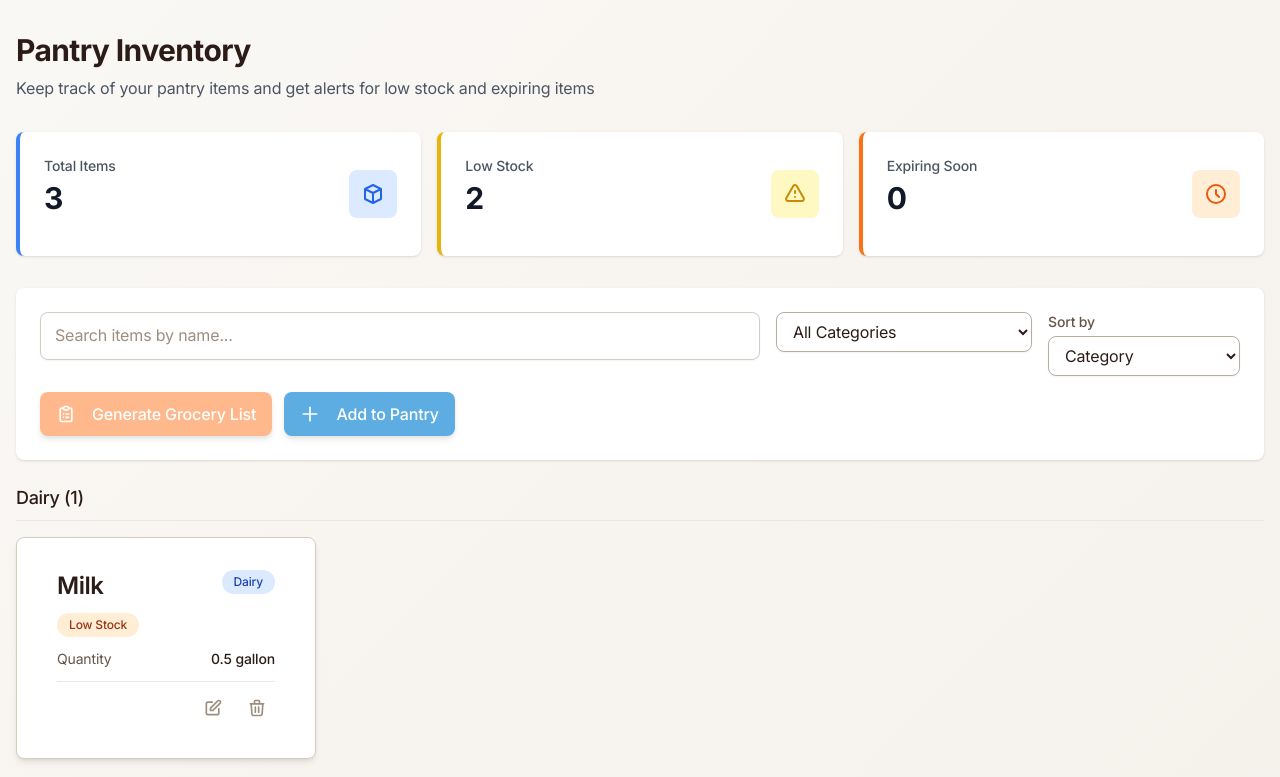
Test: PantryPage - Generate Grocery List › should close modal after successful creation
Click the button "Generate Grocery List": (156, 414) [40,392,272,436]
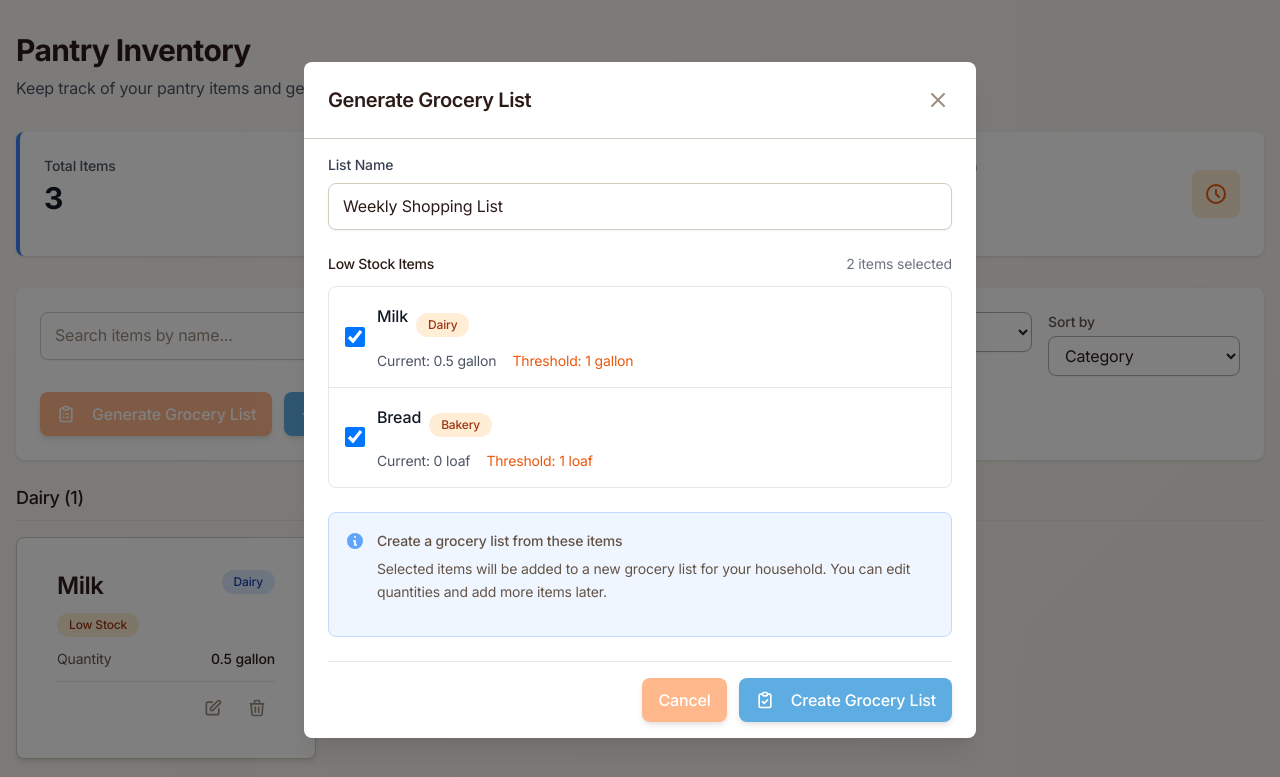
expect the button "Create Grocery List" is shown: met
Click the button "Create Grocery List": (845, 700) [739,678,952,722]
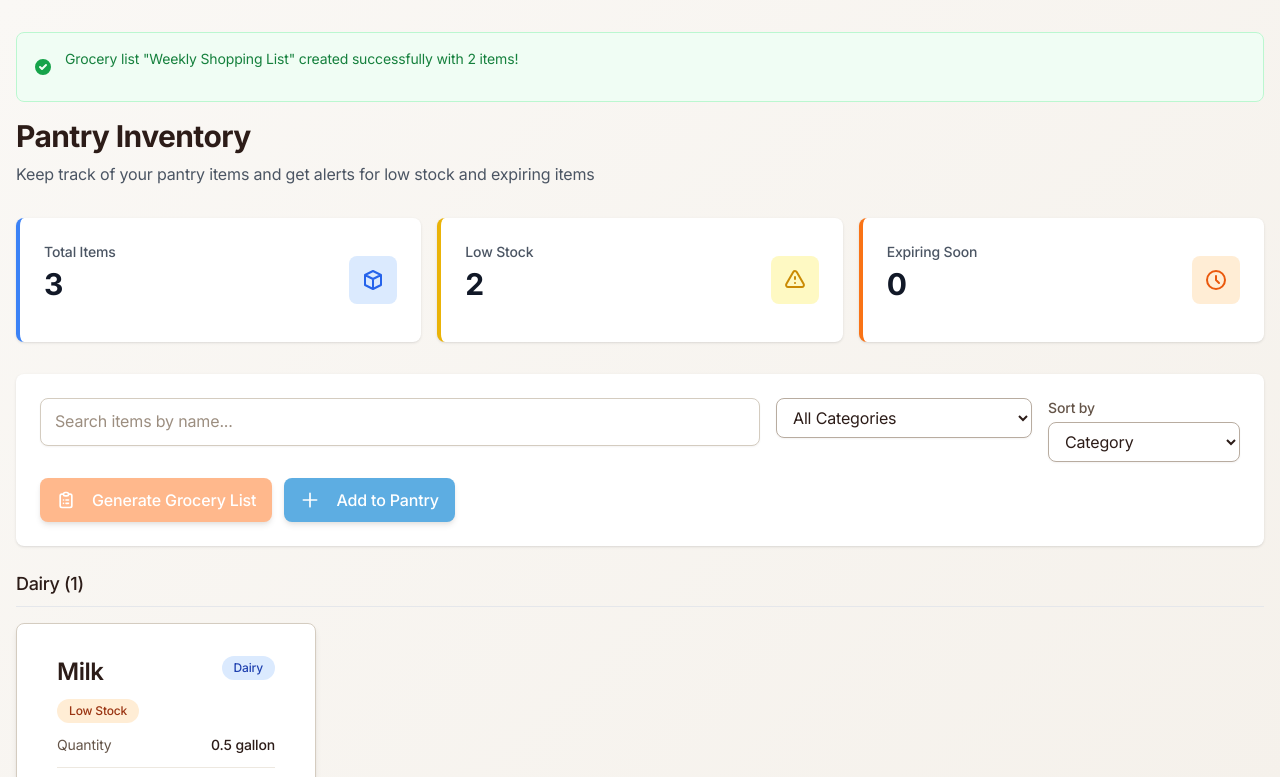
expect the button "Create Grocery List" is gone: met
